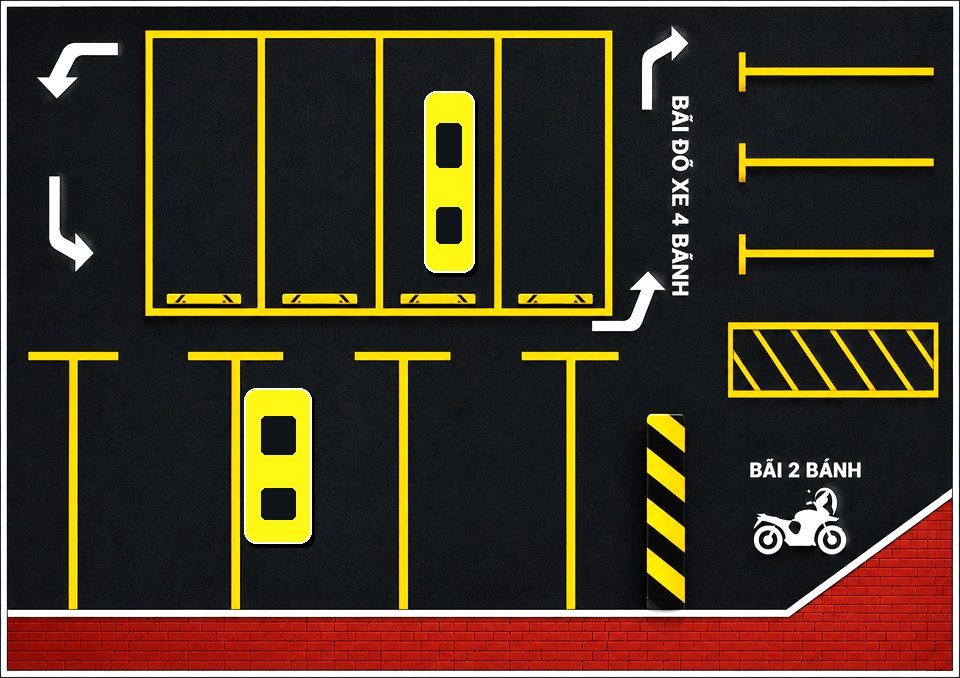empty: (35, 351, 199, 598), (360, 351, 518, 598), (524, 351, 672, 598), (148, 35, 267, 309), (267, 35, 386, 309), (505, 35, 624, 309)
occupied: (201, 351, 357, 598), (386, 35, 505, 309)
